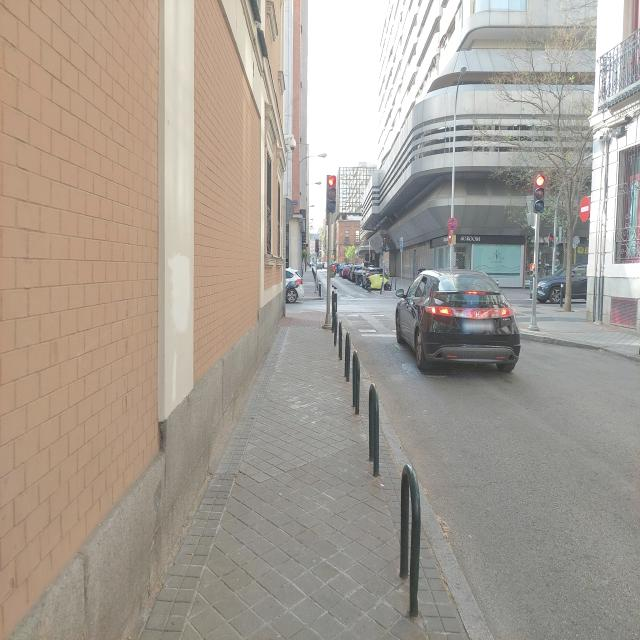car: (395, 267, 521, 373), (536, 263, 587, 305), (286, 268, 304, 304), (362, 266, 385, 292), (350, 264, 362, 283), (353, 264, 364, 284), (342, 264, 351, 278)
